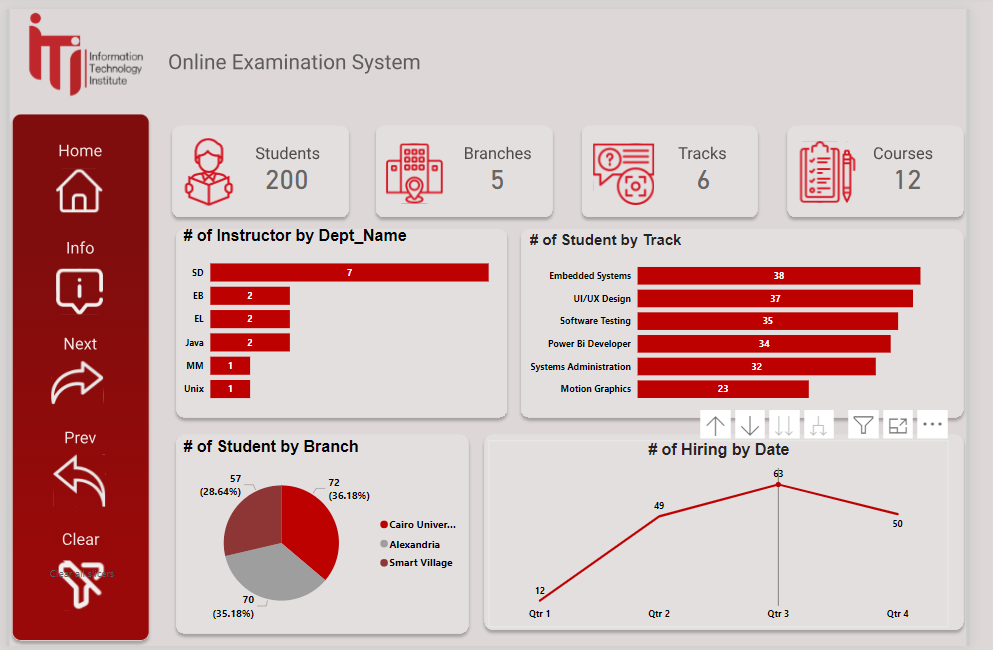

Layout of this report page (visuals, bound fields, positions):
{"tool":"powerbi","page":{"name":"Overview","canvas":[1285,850],"ordinal":2},"visuals":[{"type":"barChart","title":"# of Student by Track","fields":{"Category":["Track.Track_Name"],"Y":["Count(FactTable.ST_ID)"]},"box":[692.9,297.1,552.9,240],"z":0},{"type":"card","fields":{"Values":["CountNonNull(Branches.Branch_Id)"]},"box":[627.8,195.6,53.3,58.9],"z":1000},{"type":"card","fields":{"Values":["CountNonNull(Track.Track_ID)"]},"box":[903.3,195.6,53.3,58.9],"z":2000},{"type":"card","fields":{"Values":["Count(FactTable.ST_ID)"]},"box":[310,195.6,128.9,58.9],"z":3000},{"type":"card","fields":{"Values":["Count(Course.Course_ID)"]},"box":[1174.4,195.6,53.3,58.9],"z":4000},{"type":"pieChart","title":"# of Student by Branch","fields":{"Category":["Branches.Branch_Name"],"Y":["Branches.# stud"]},"box":[231.4,571.4,384.3,257.1],"z":5000},{"type":"barChart","title":"# of Instructor by Dept_Name","fields":{"Category":["Department.Dept_Name"],"Y":["Department.# ins"]},"box":[231.4,290,431.4,247.1],"z":6000},{"type":"lineChart","title":"# of Hiring by Date","fields":{"Category":["Date.Date.Variation.Date Hierarchy.Year","Date.Date.Variation.Date Hierarchy.Quarter"],"Y":["Count(FactTable.Hiring_ID)"]},"box":[642.9,575.7,614.3,250],"z":7000},{"type":"actionButton","box":[43.3,171.1,100,107.8],"z":8000},{"type":"actionButton","box":[42,297.1,112.9,115.7],"z":9000},{"type":"actionButton","box":[42,164.3,112.9,115.7],"z":10000},{"type":"actionButton","box":[41.4,428.6,112.9,105.7],"z":11000},{"type":"actionButton","box":[44.3,554.3,112.9,114.3],"z":12000},{"type":"actionButton","box":[44.3,698.6,112.9,105.7],"z":13000}]}

Visuals, with their boxes in screenshot pixels (x1, y1, x2, y2), scaled from the page's 1285x850 canvas onto the 993x650 screenshot:
"# of Student by Track" barChart: <box>535,227,963,411</box>
card - CountNonNull(Branches.Branch_Id): <box>485,150,526,195</box>
card - CountNonNull(Track.Track_ID): <box>698,150,739,195</box>
card - Count(FactTable.ST_ID): <box>240,150,339,195</box>
card - Count(Course.Course_ID): <box>908,150,949,195</box>
"# of Student by Branch" pieChart: <box>179,437,476,634</box>
"# of Instructor by Dept_Name" barChart: <box>179,222,512,411</box>
"# of Hiring by Date" lineChart: <box>497,440,972,631</box>
actionButton: <box>33,131,111,213</box>
actionButton: <box>32,227,120,316</box>
actionButton: <box>32,126,120,214</box>
actionButton: <box>32,328,119,409</box>
actionButton: <box>34,424,121,511</box>
actionButton: <box>34,534,121,615</box>
